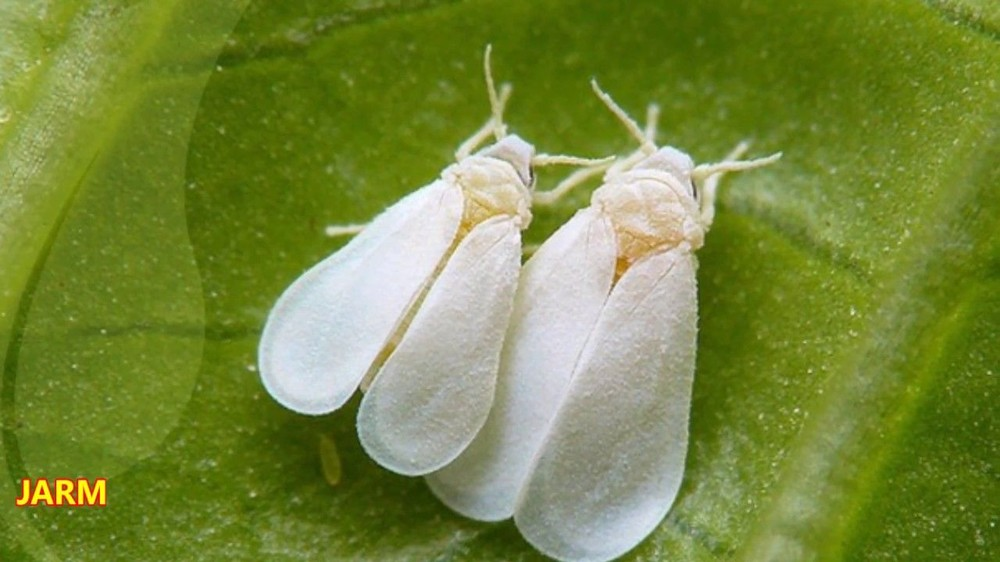Mosca Blanca: (454, 106, 787, 542), (256, 49, 577, 470)
